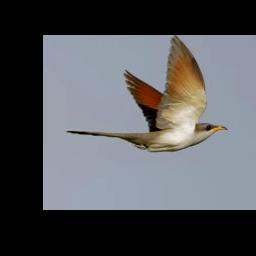Cuckoo: (66, 35, 227, 151)
